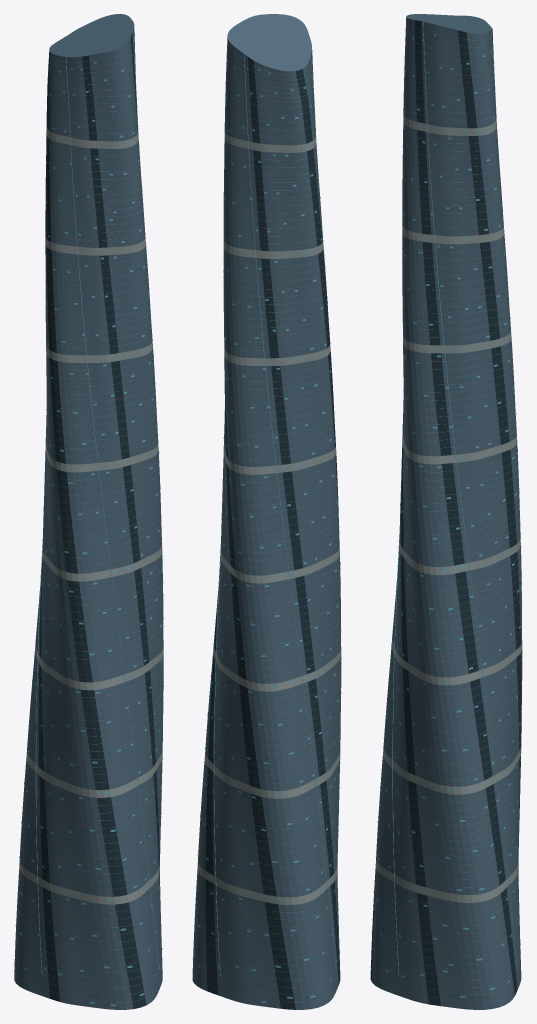
File: shanghai_near.glb
3 views of the same model, side by side, from view 1: azimuth 30°, elevation 25°; view 2: azimuth 150°, elevation 25°; view 3: azimuth 270°, elevation 25° (orthographic).
Parts seen in each view (by area): view 1: Glazing, GlassDark, Silver, NightCool; view 2: Glazing, GlassDark, Silver, NightCool; view 3: Glazing, GlassDark, Silver, NightCool.
Part boxes in pixels (x1,y1,x2,y2): Glazing: (14,14,163,1009); GlassDark: (38,33,160,1008); Silver: (15,49,163,1002); NightCool: (14,32,163,1006); Glazing: (192,14,341,1009); GlassDark: (205,57,340,1009); Silver: (194,49,341,1002); NightCool: (192,14,341,1003); Glazing: (372,14,522,1009); GlassDark: (370,20,521,1006); Silver: (372,24,522,1002); NightCool: (370,22,522,997).
Bounding box in the file's own units: 91.41 × 632 × 90.01.
